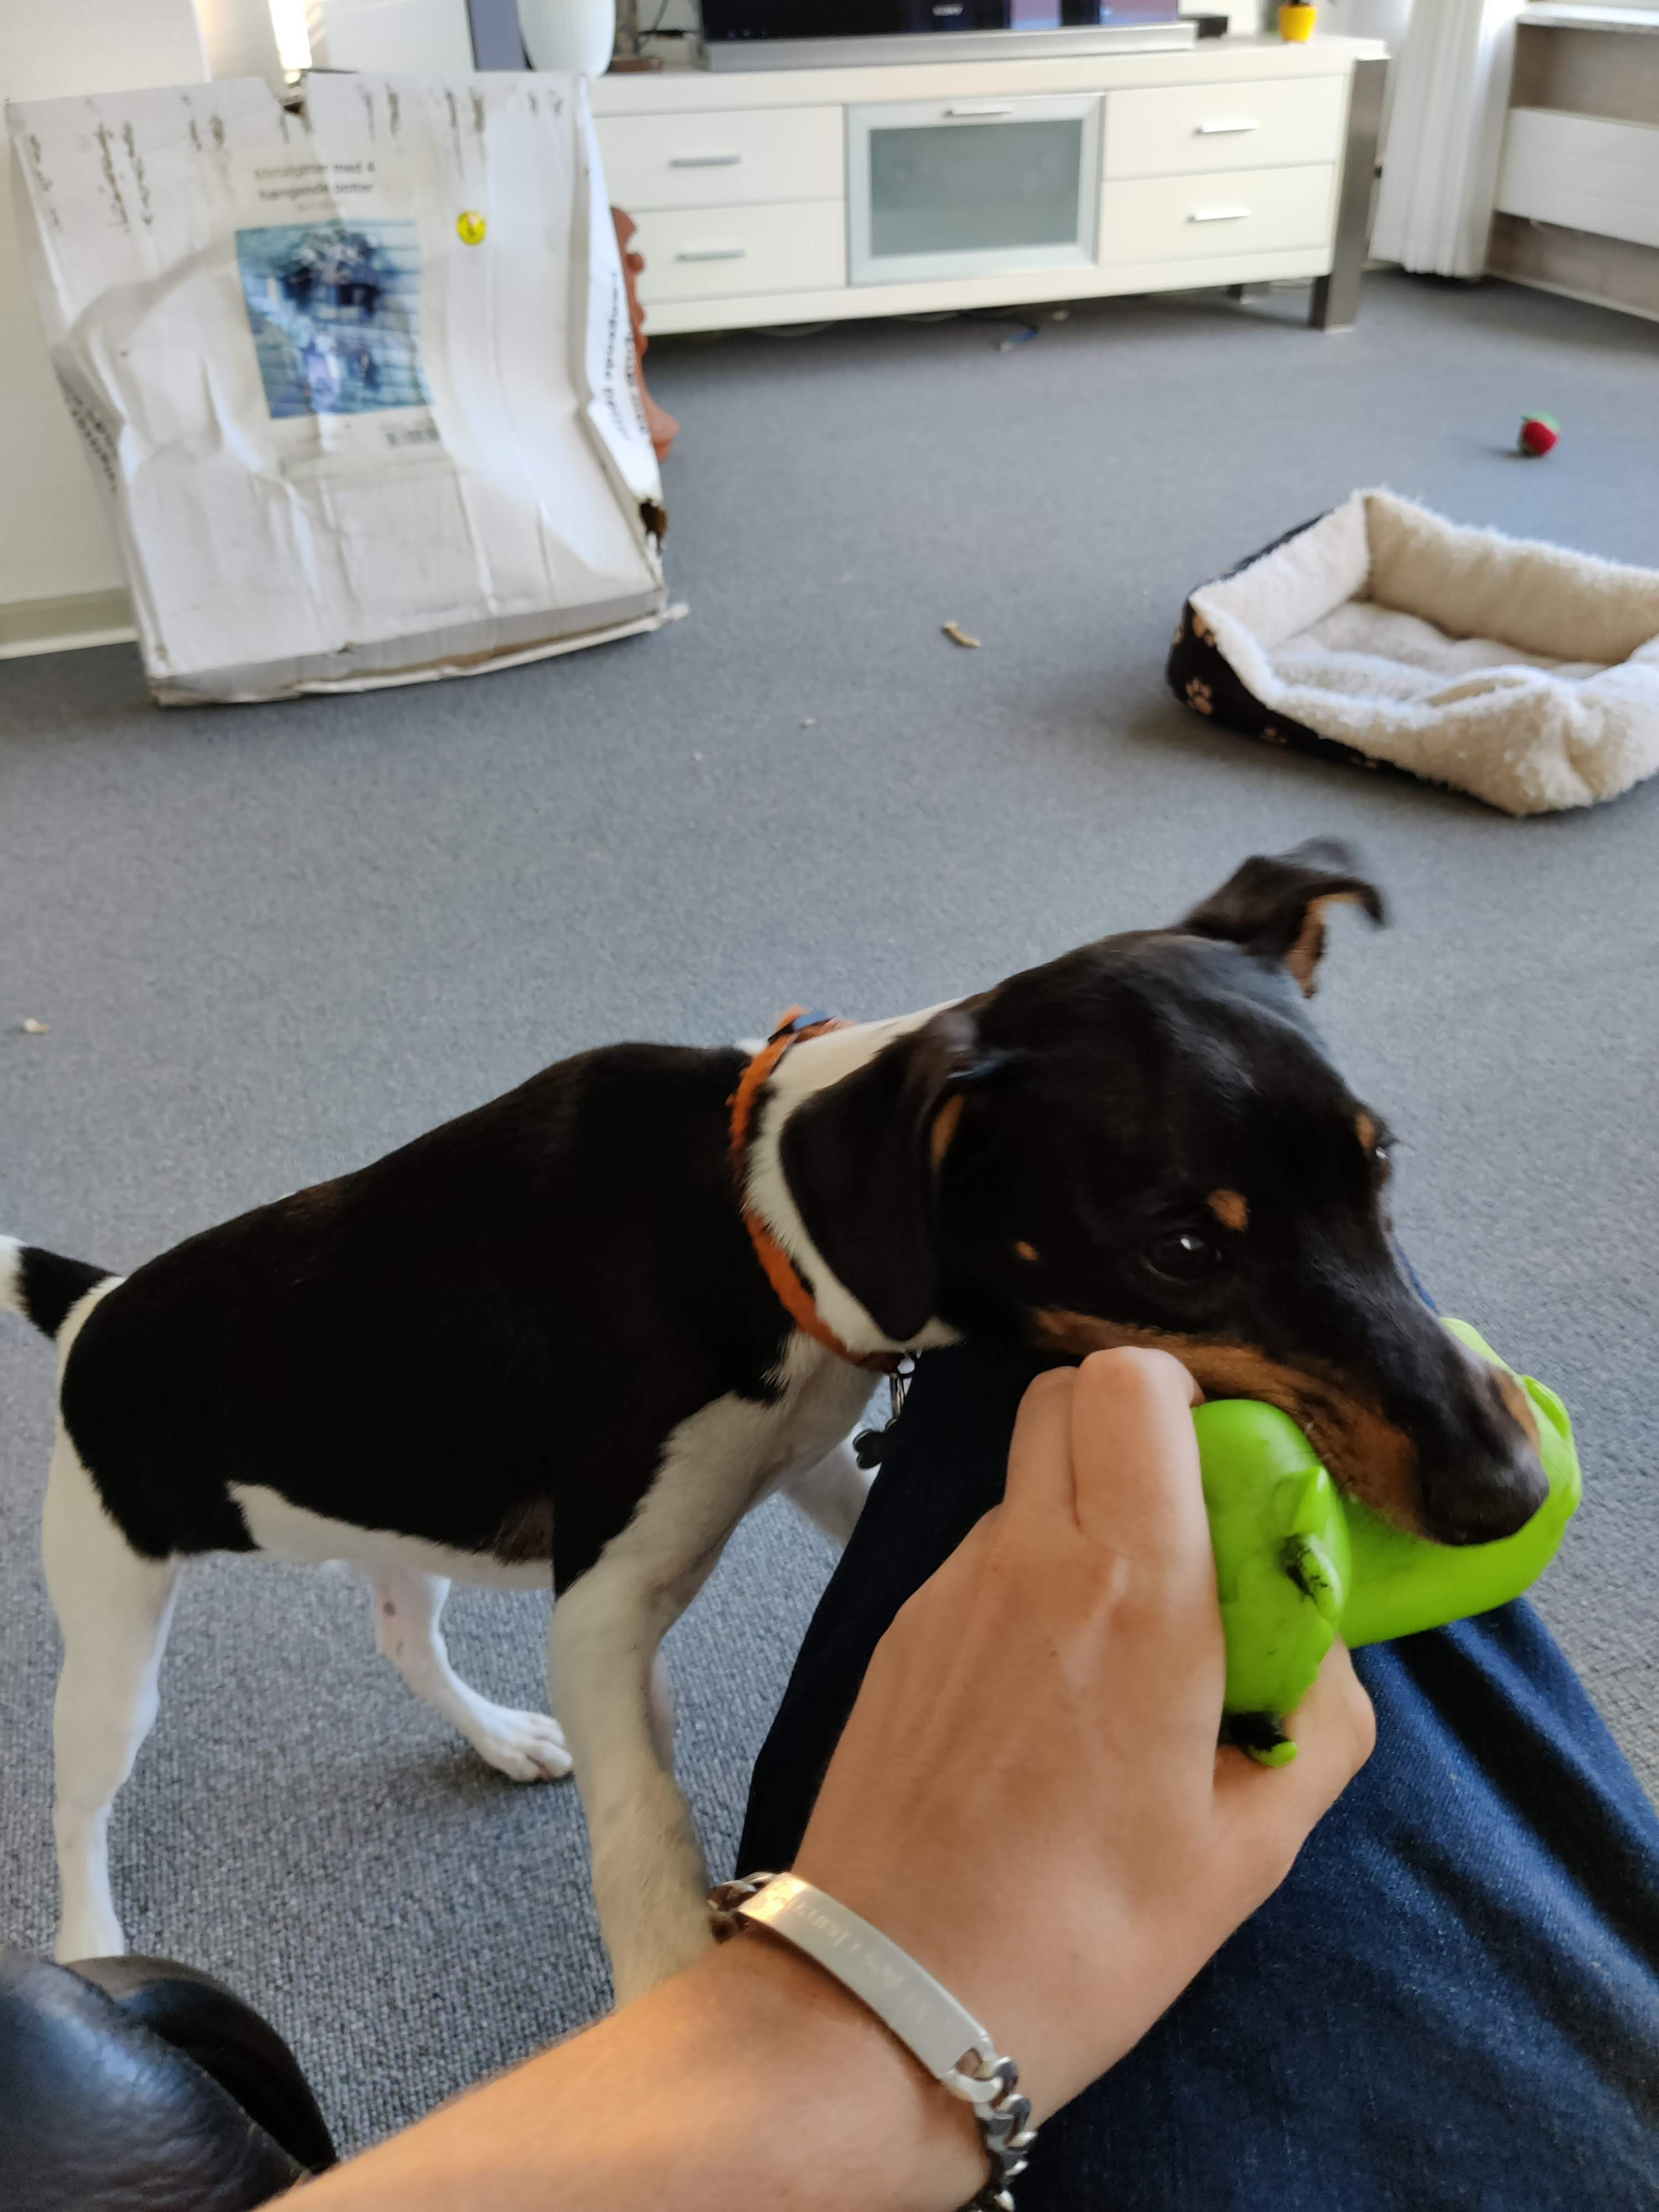Dog: (0, 827, 1560, 2012)
